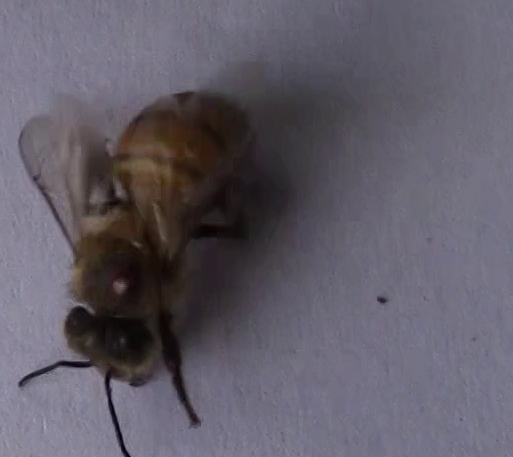Varroa destructor: (104, 264, 150, 304)
